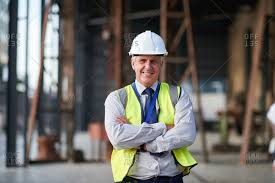Person_wearing_helmet: (122, 27, 171, 67)
